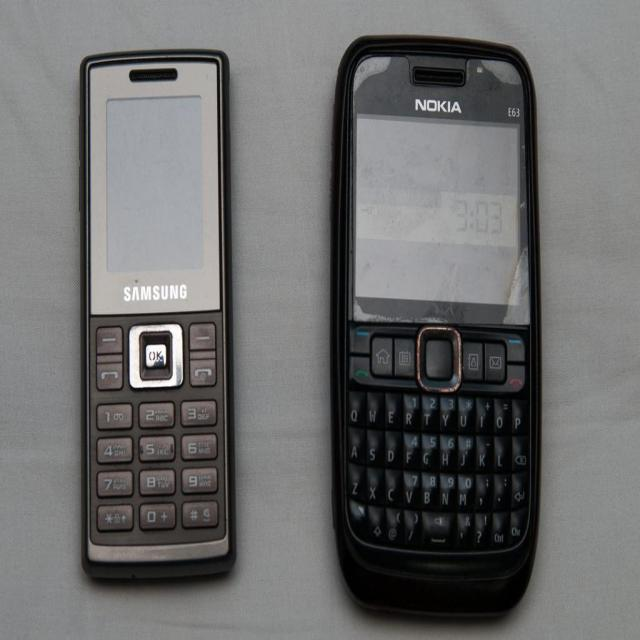Phone: (334, 32, 542, 616), (80, 43, 234, 588)
